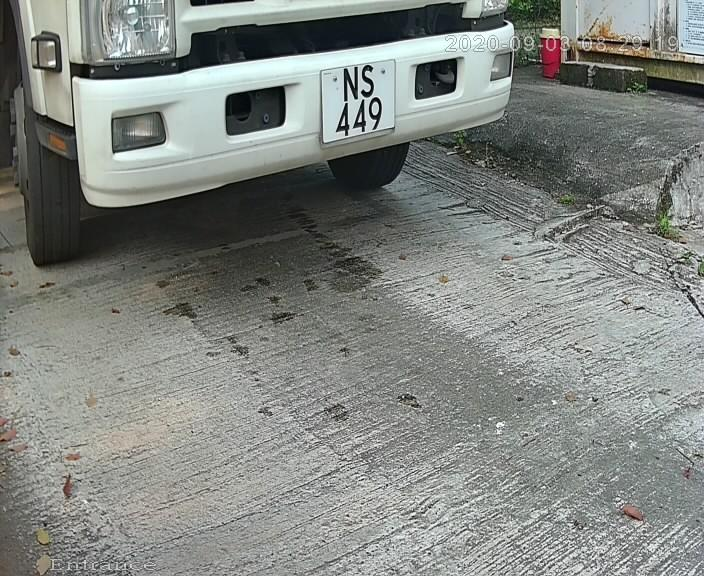License Plate: (283, 42, 409, 157)
